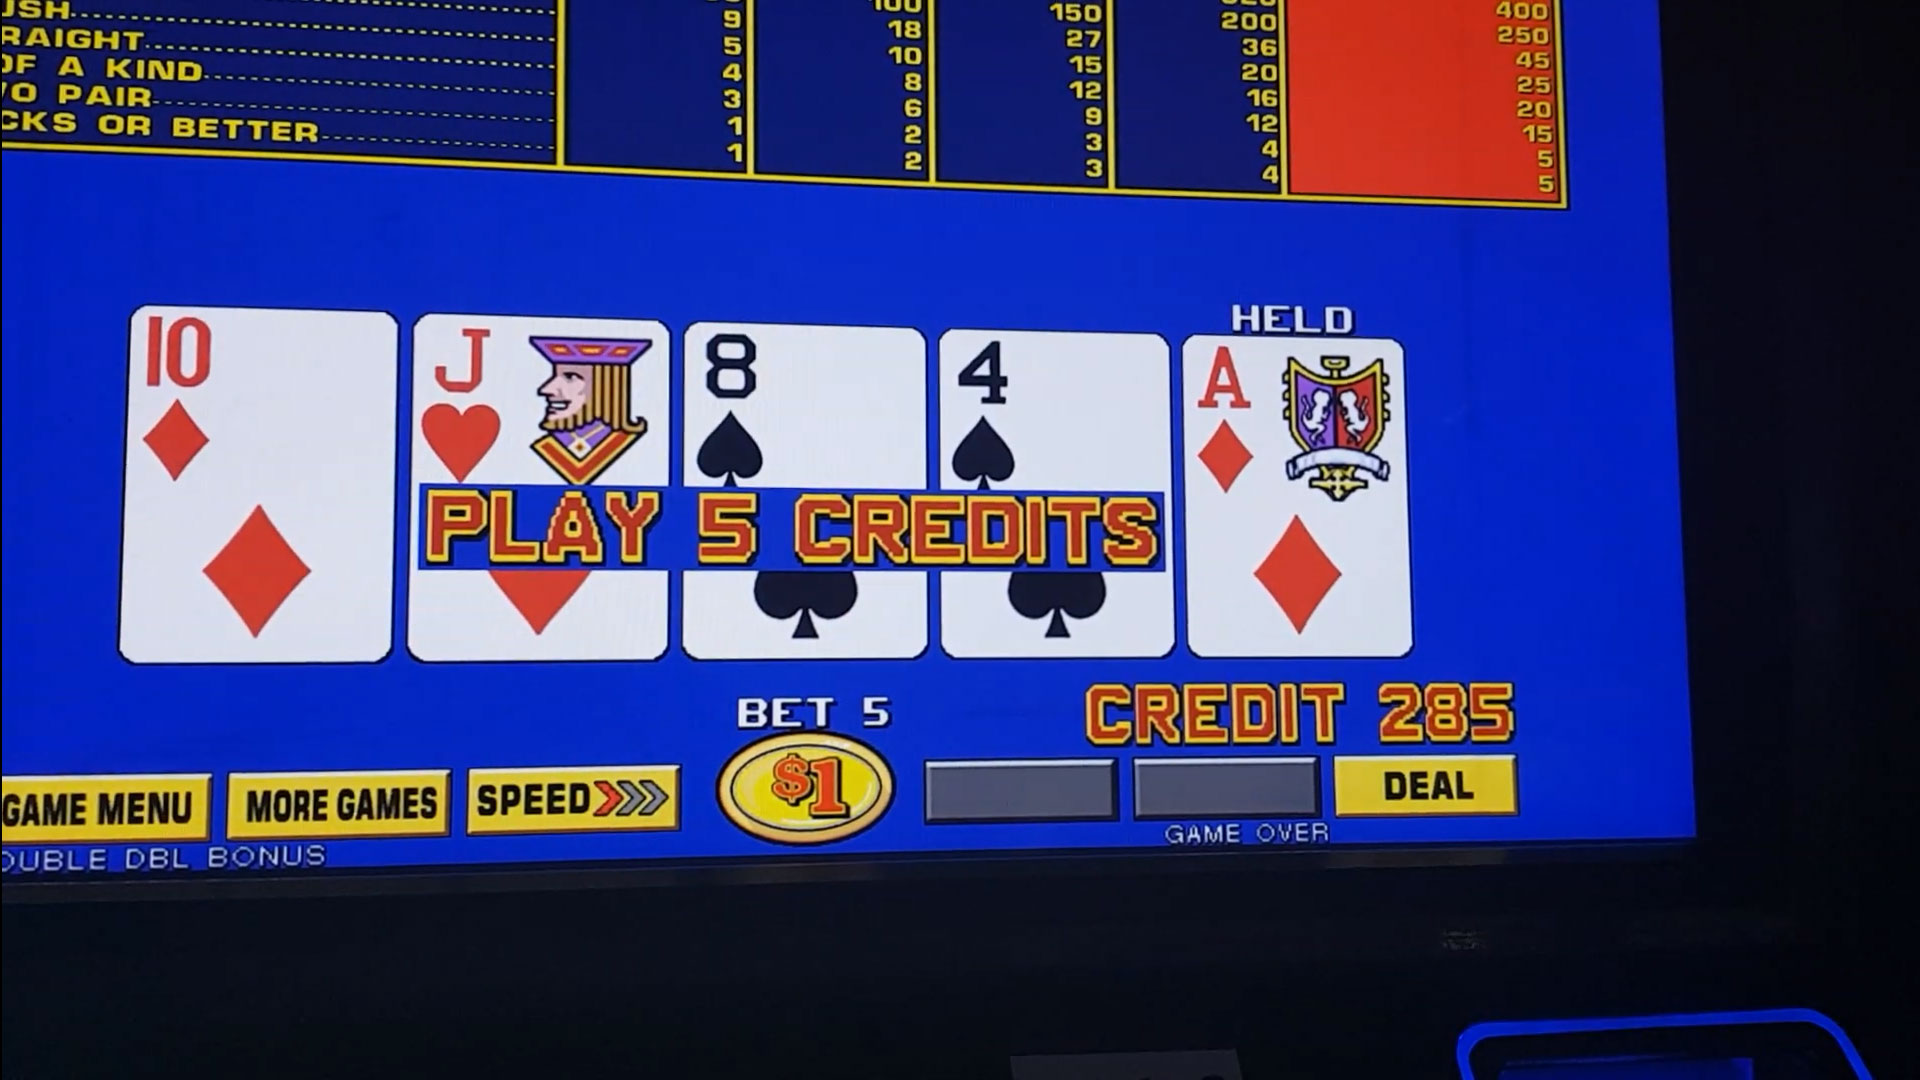DA: (1189, 339, 1396, 485)
DT: (140, 311, 396, 493)
HJ: (431, 316, 665, 477)
S4: (948, 336, 1166, 485)
S8: (690, 326, 920, 484)
